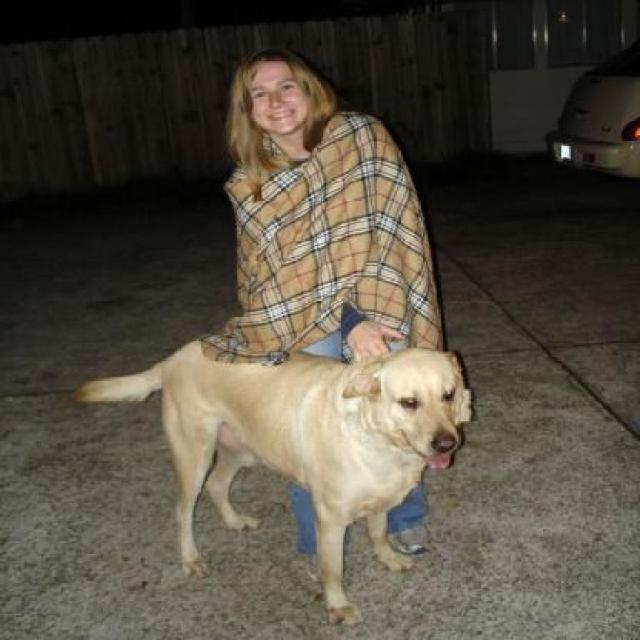Person: (197, 48, 448, 583)
